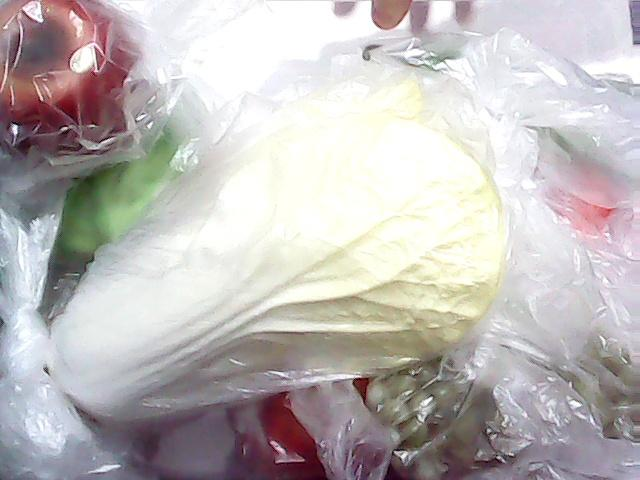apple: (0, 0, 152, 168)
cabbage: (52, 146, 182, 254)
carrot: (523, 69, 640, 246)
grape: (383, 328, 640, 480)
napa cabbage: (39, 75, 505, 433)
peach: (227, 376, 385, 480)
